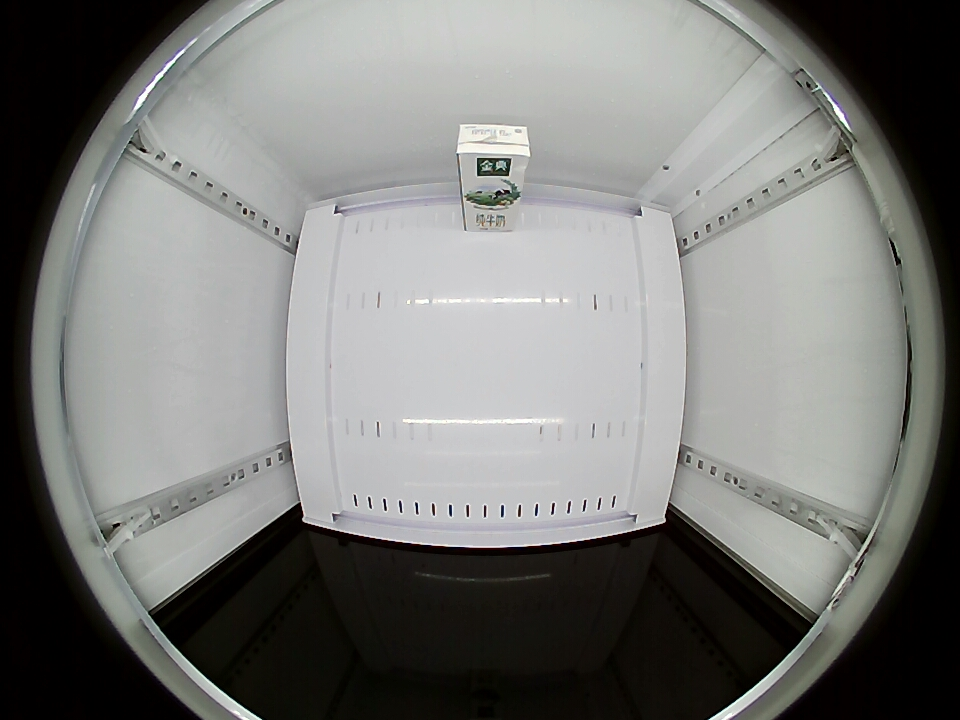jindian: (456, 123, 531, 180)
